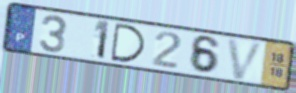1: (93, 19, 111, 62)
2: (150, 31, 183, 71)
3: (38, 13, 68, 53)
6: (186, 34, 224, 76)
D: (109, 21, 148, 64)
V: (225, 37, 267, 82)
